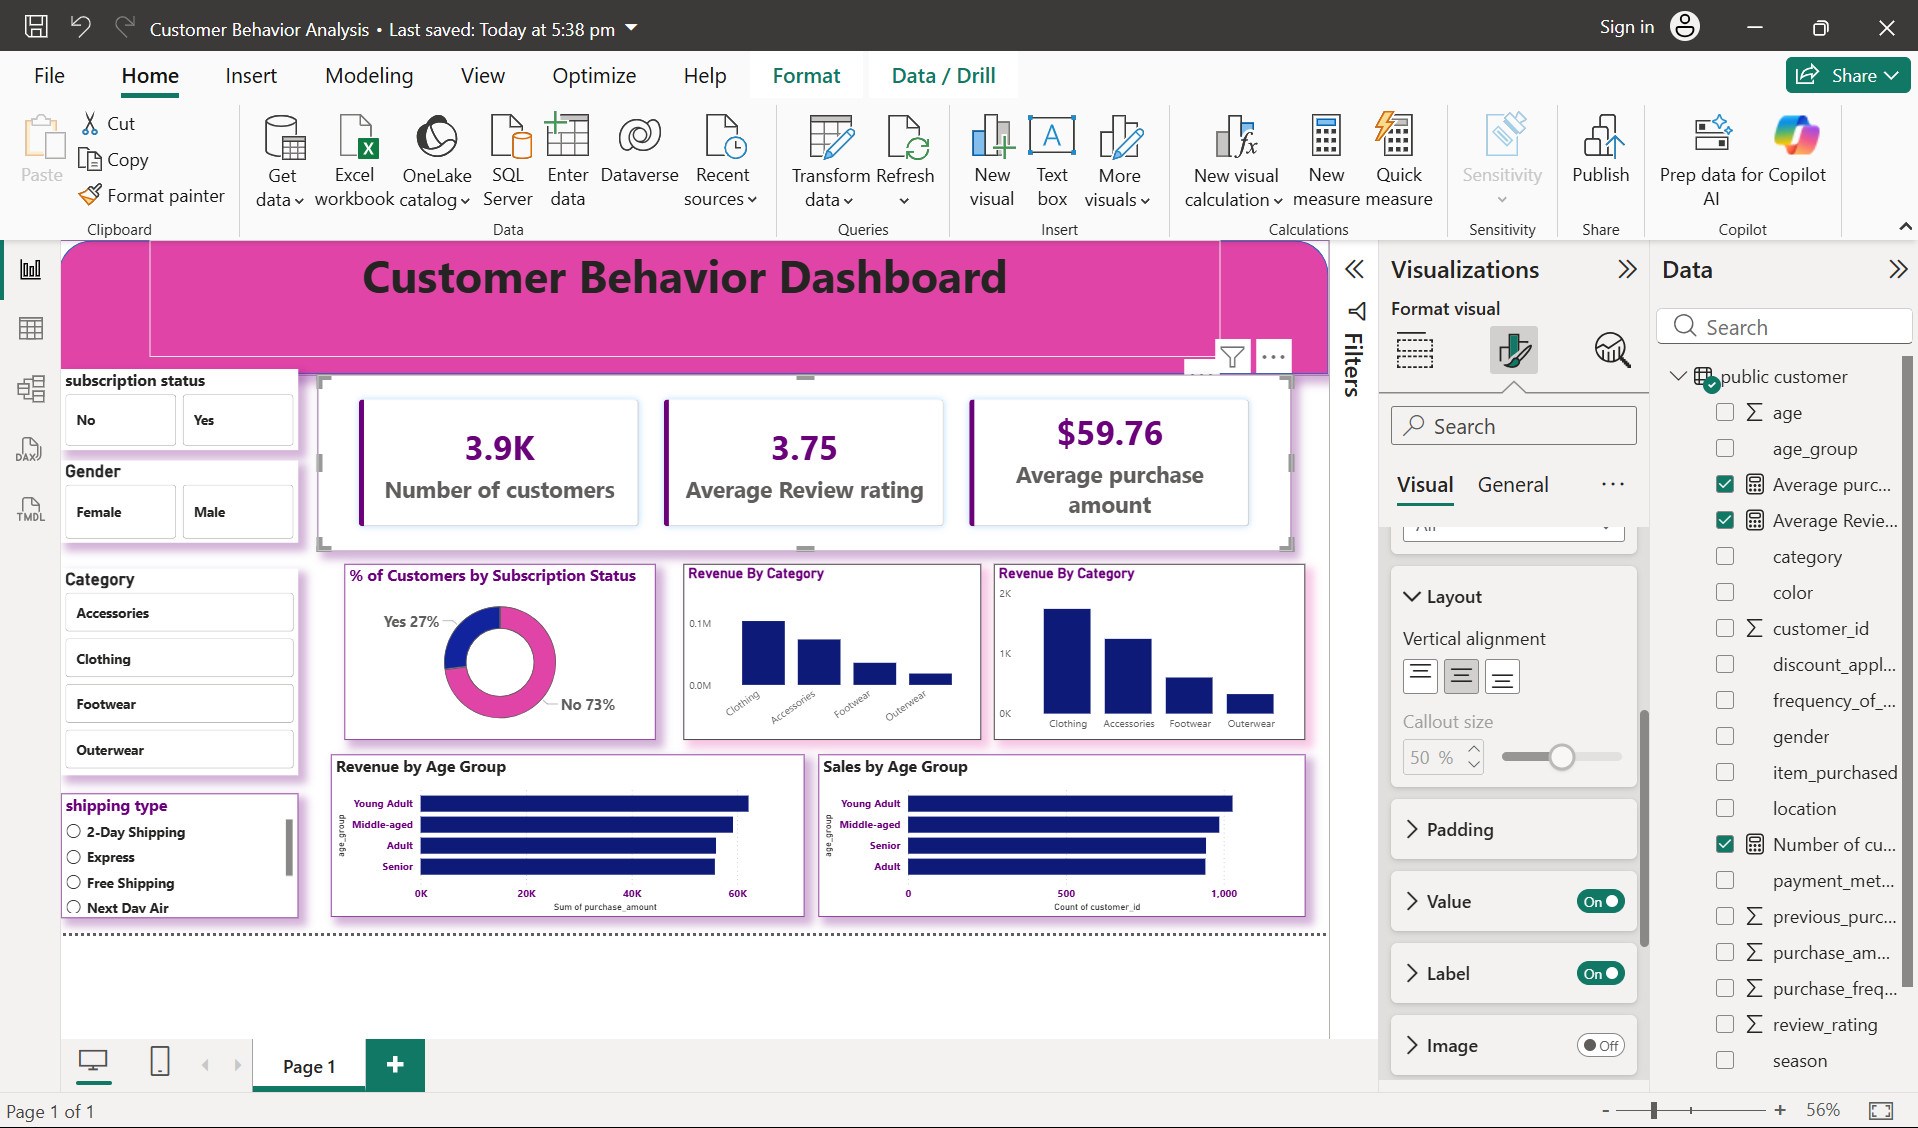

What the dashboard file says about the page in this screenshot:
{"tool":"powerbi","page":{"name":"Page 1","canvas":[1500,820],"ordinal":0},"visuals":[{"type":"cardVisual","fields":{"Data":["public customer.Number of customers","public customer.Average Review rating","public customer.Average purchase amount"]},"box":[304,160,1152,208],"z":0},{"type":"shape","box":[-4,0,1504,160],"z":1000},{"type":"textbox","box":[104.7,0,1267,138.4],"z":2000},{"type":"donutChart","title":"% of Customers by Subscription Status","fields":{"Category":["public customer.subscription_status"],"Y":["CountNonNull(public customer.customer_id)"]},"box":[336,384,368,208],"z":3000},{"type":"clusteredColumnChart","title":"Revenue By Category","fields":{"Y":["Sum(public customer.purchase_amount)"],"Category":["public customer.category"]},"box":[736,384,352,208],"z":4000},{"type":"clusteredColumnChart","title":"Revenue By Category","fields":{"Y":["CountNonNull(public customer.customer_id)"],"Category":["public customer.category"]},"box":[1104,384,368,208],"z":5000},{"type":"advancedSlicerVisual","title":"subscription status","fields":{"Values":["public customer.subscription_status"]},"box":[0,152.6,280.4,95.8],"z":5001},{"type":"advancedSlicerVisual","title":"Gender","fields":{"Values":["public customer.gender"]},"box":[0,260.8,280.4,97.6],"z":5002},{"type":"advancedSlicerVisual","title":"Category","fields":{"Values":["public customer.category"]},"box":[0,388.6,280.4,244.9],"z":5003},{"type":"listSlicer","title":"shipping type","fields":{"Values":["public customer.shipping_type"]},"box":[0,654.8,280.4,147.3],"z":5004},{"type":"clusteredBarChart","title":"Revenue by Age Group","fields":{"Y":["Sum(public customer.purchase_amount)"],"Category":["public customer.age_group"]},"box":[320,608,560,192],"z":5005},{"type":"clusteredBarChart","title":"Sales by Age Group","fields":{"Y":["CountNonNull(public customer.customer_id)"],"Category":["public customer.age_group"]},"box":[896,608,576,192],"z":5006}]}

Visuals, with their boxes in screenshot pixels (x1, y1, x2, y2):
cardVisual - public customer.Number of customers x public customer.Average Review rating: [322,262,1884,544]
shape: [0,45,1917,262]
textbox: [52,45,1769,233]
"% of Customers by Subscription Status" donutChart: [366,565,864,847]
"Revenue By Category" clusteredColumnChart: [908,565,1385,847]
"Revenue By Category" clusteredColumnChart: [1406,565,1905,847]
"subscription status" advancedSlicerVisual: [0,252,290,382]
"Gender" advancedSlicerVisual: [0,398,290,531]
"Category" advancedSlicerVisual: [0,572,290,904]
"shipping type" listSlicer: [0,932,290,1127]
"Revenue by Age Group" clusteredBarChart: [344,869,1103,1127]
"Sales by Age Group" clusteredBarChart: [1125,869,1905,1127]
